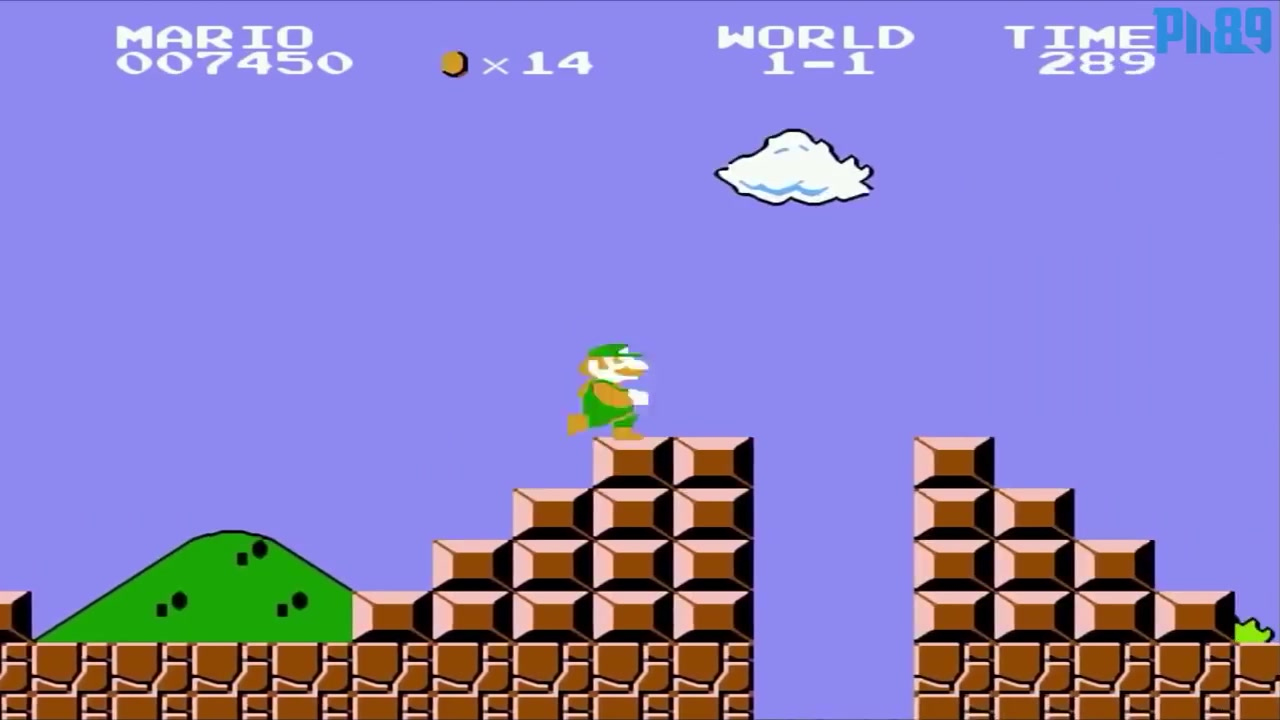mario: (549, 323, 660, 442)
